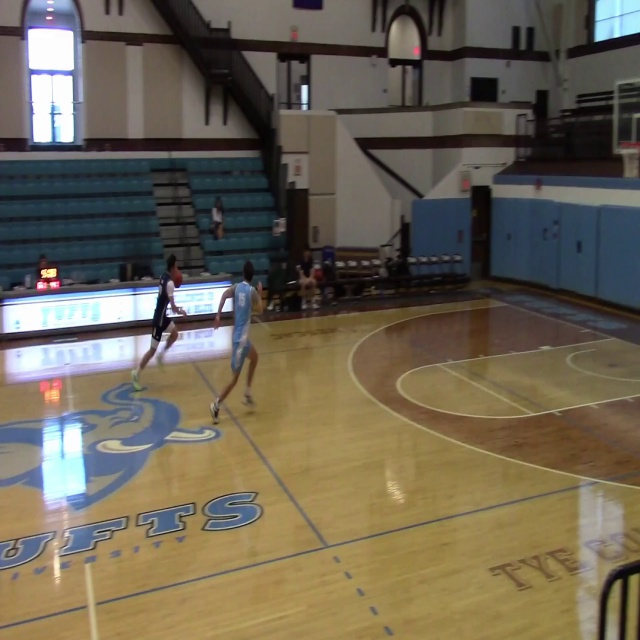Basketball: (171, 269, 183, 287)
